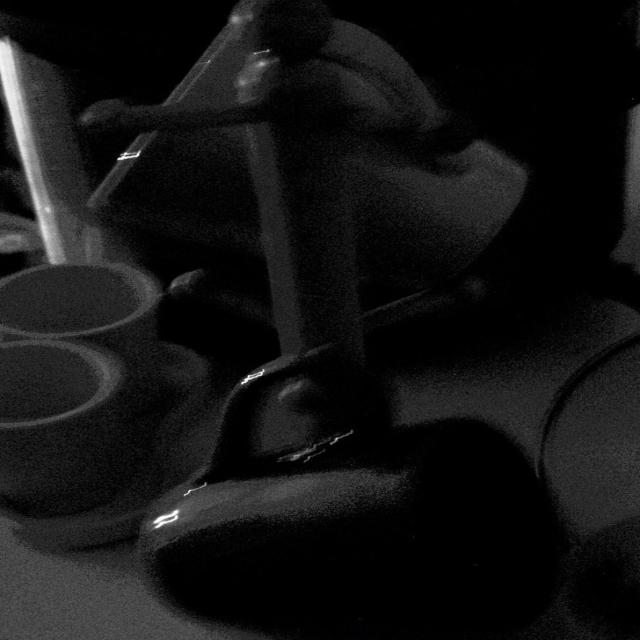Cup: (97, 6, 602, 330), (0, 324, 132, 528), (4, 244, 176, 367)
